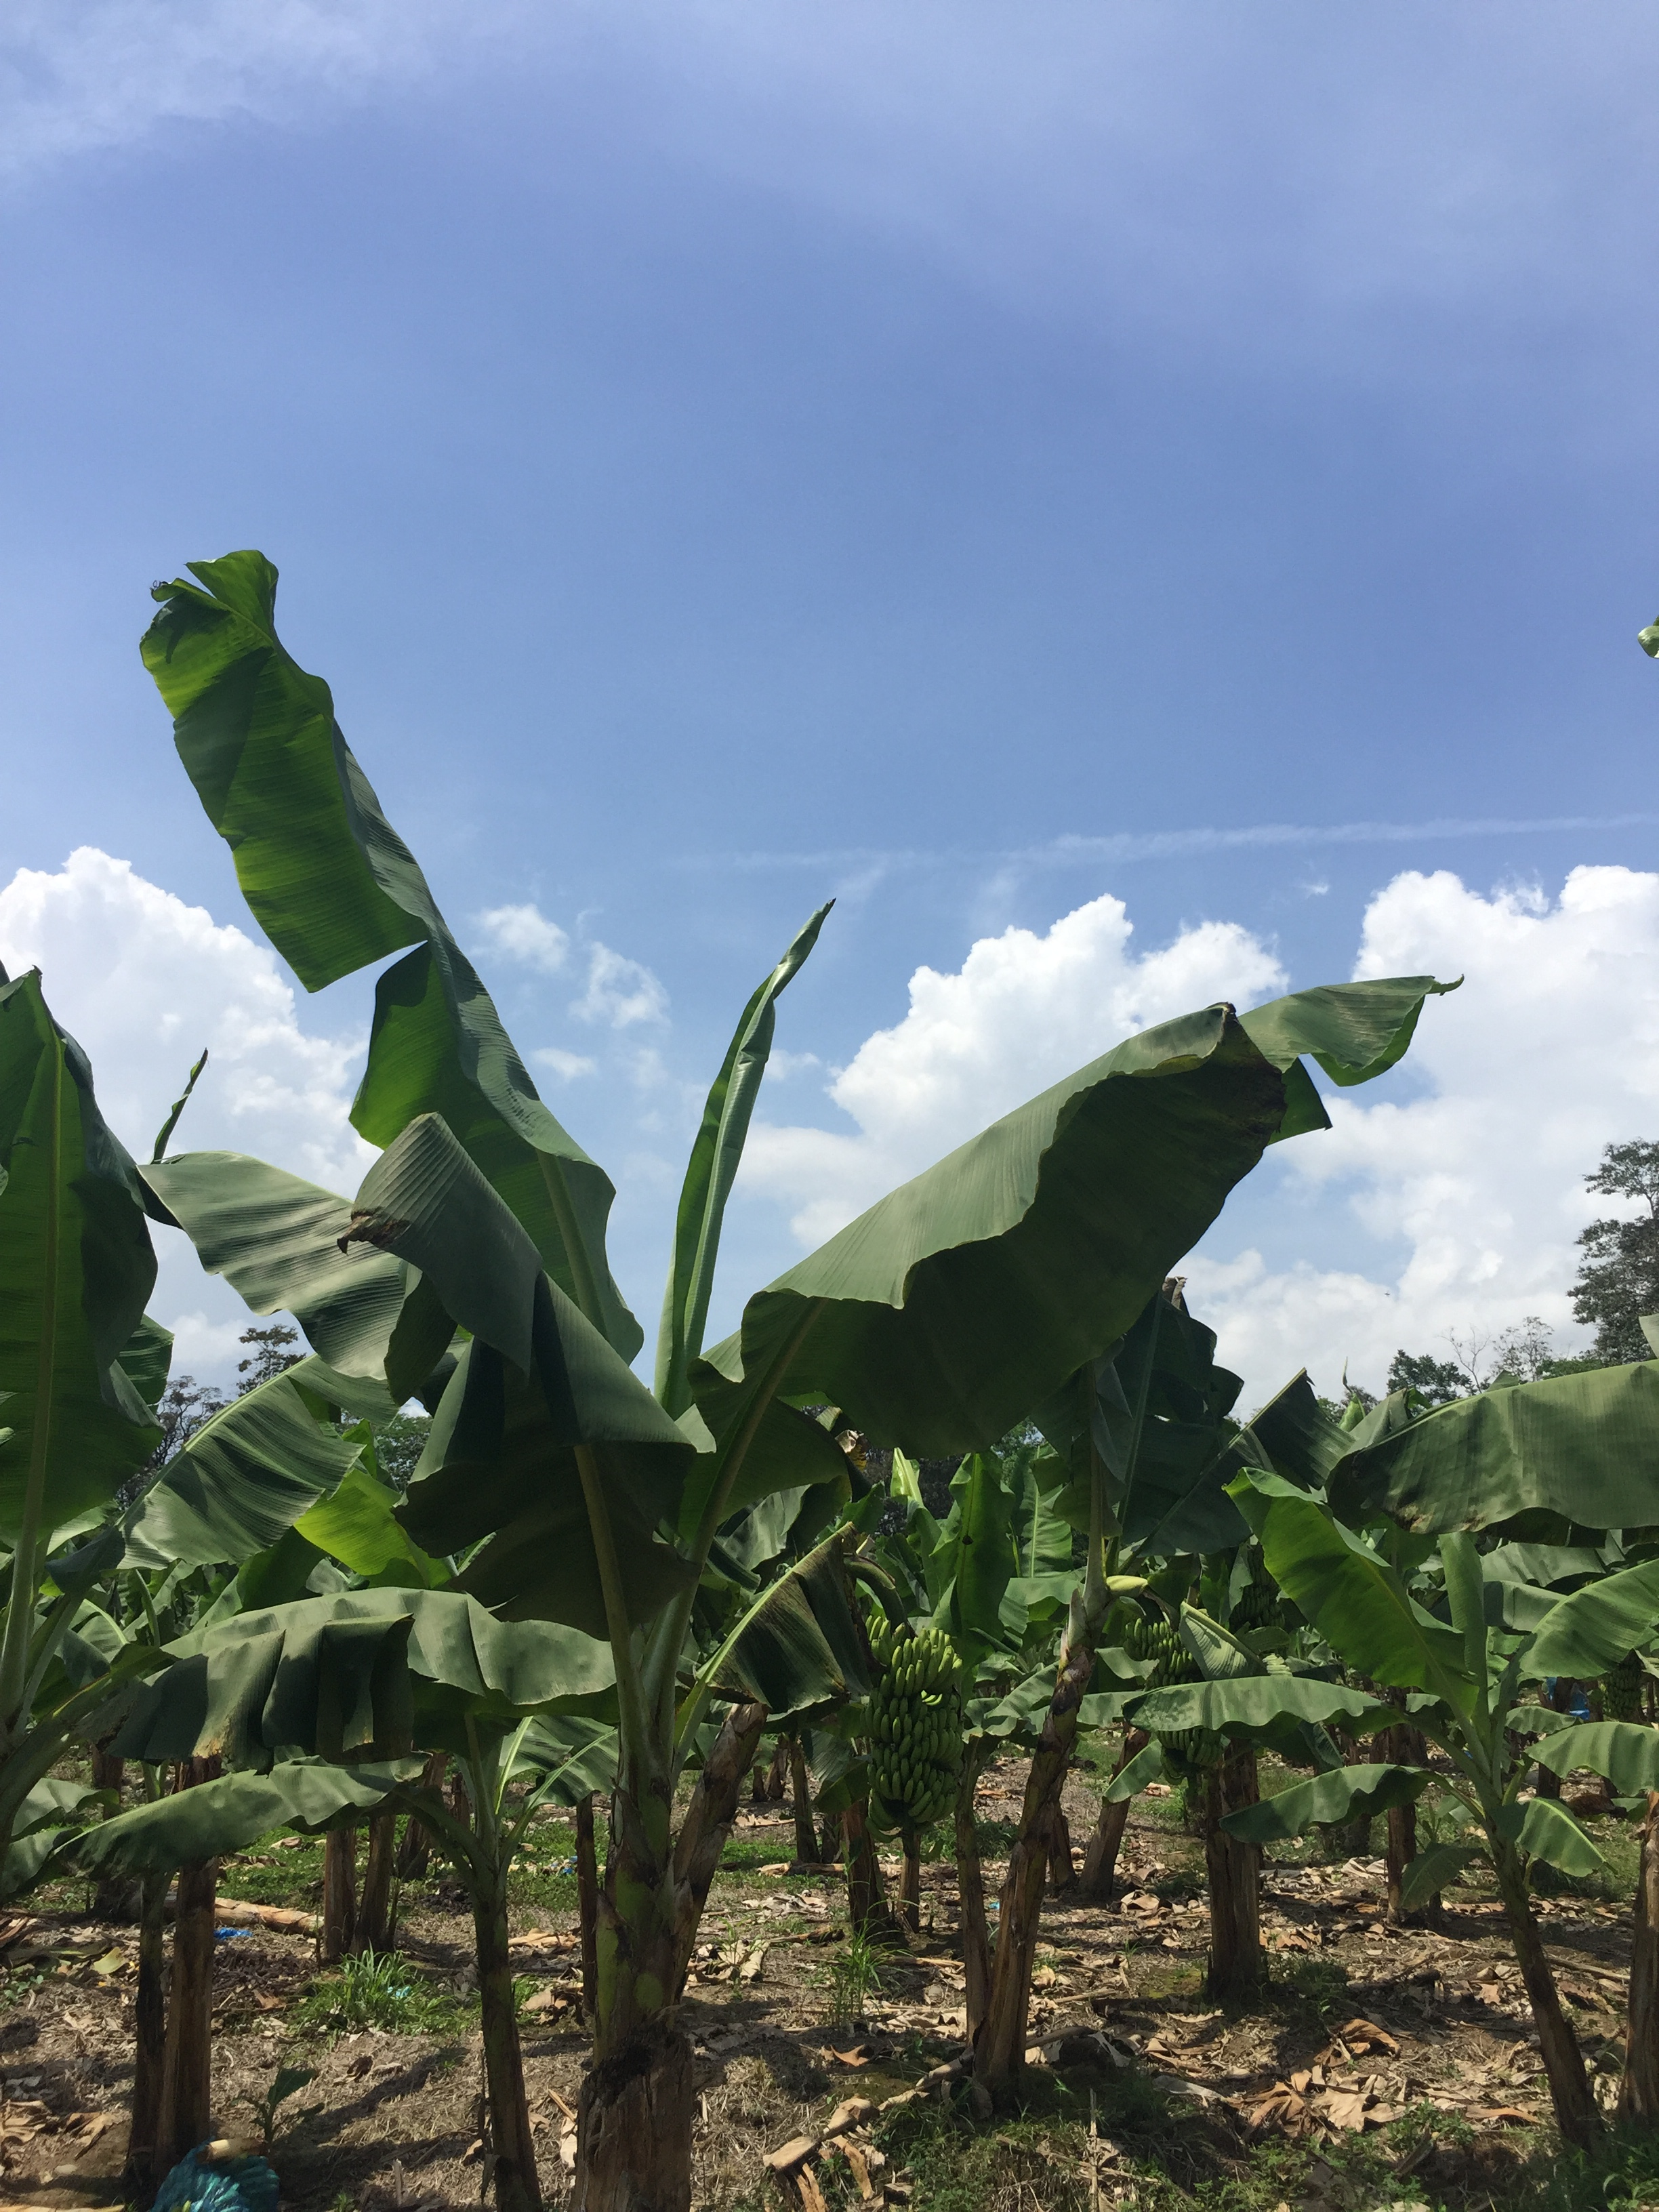candleleafs: (655, 900, 835, 1404)
